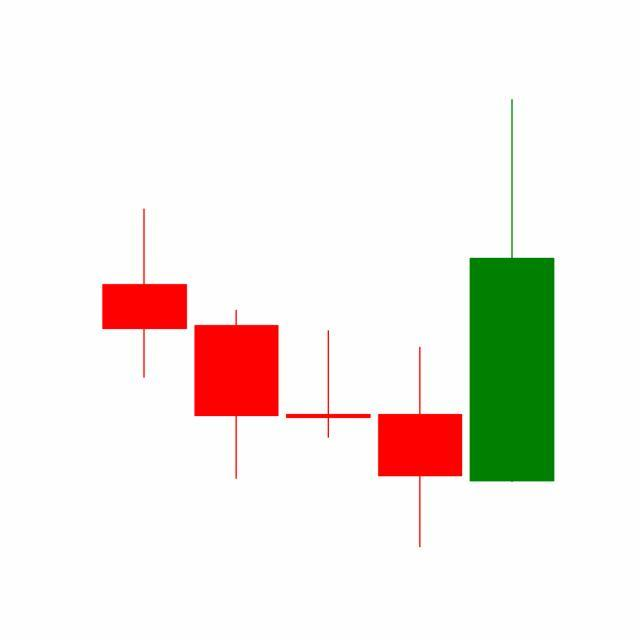Three Line Strike: (189, 99, 555, 549)
